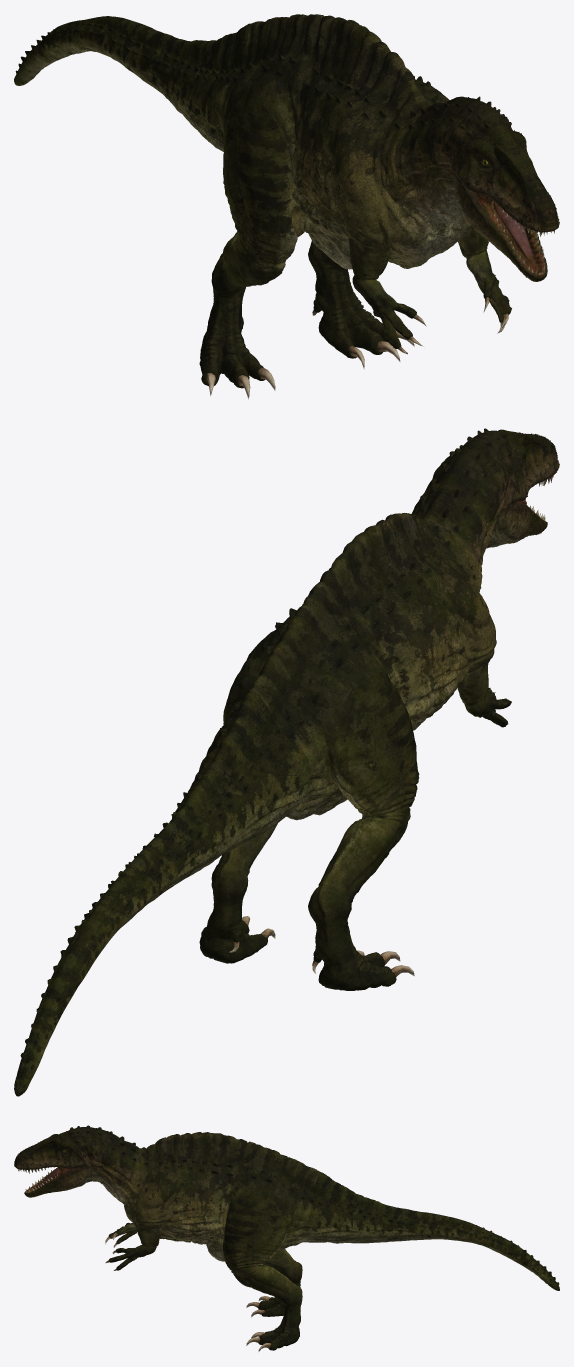
The model's file is acrocanthosaurus.glb.
The picture shows the model from 3 angles, top to bottom: view 1: azimuth 30°, elevation 25°; view 2: azimuth 150°, elevation 25°; view 3: azimuth 270°, elevation 25°; orthographic projection. The views are drawn at different scales.
Parts seen in each view (by area): view 1: test:polySurface1_body_0, test:polySurface1_legs_0, test:polySurface1_head_0, test:polySurface1_tail_0, bits1_teeth_0; view 2: test:polySurface1_body_0, test:polySurface1_legs_0, test:polySurface1_tail_0, test:polySurface1_head_0; view 3: test:polySurface1_body_0, test:polySurface1_legs_0, test:polySurface1_tail_0, test:polySurface1_head_0, bits1_teeth_0.
Part boxes in pixels (x1,y1,x2,y2): test:polySurface1_body_0: (218, 14, 474, 269); test:polySurface1_legs_0: (199, 91, 511, 388); test:polySurface1_head_0: (397, 96, 559, 281); test:polySurface1_tail_0: (14, 16, 291, 170); bits1_teeth_0: (206, 201, 554, 399); test:polySurface1_body_0: (222, 513, 496, 820); test:polySurface1_legs_0: (199, 651, 511, 990); test:polySurface1_tail_0: (14, 691, 317, 1096); test:polySurface1_head_0: (411, 428, 559, 565); test:polySurface1_body_0: (112, 1132, 319, 1261); test:polySurface1_legs_0: (108, 1194, 302, 1350); test:polySurface1_tail_0: (293, 1172, 559, 1290); test:polySurface1_head_0: (14, 1125, 138, 1197); bits1_teeth_0: (17, 1167, 271, 1351).
Size of the model in its own units: 1.61 by 2.97 by 7.3.
Materials: 6 (6 with a texture image).
